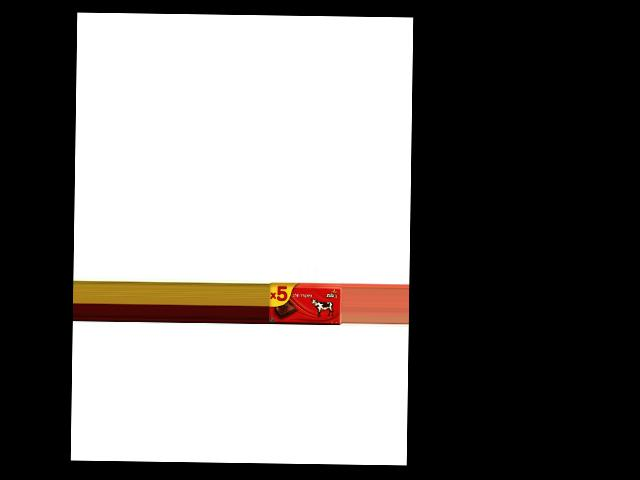chocolate: (269, 281, 342, 324)
